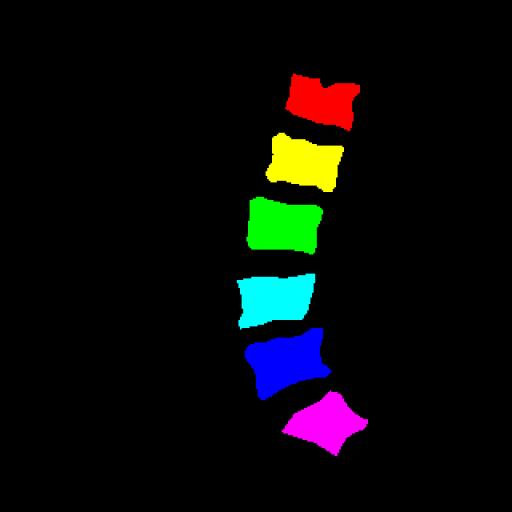L1: (288, 74, 360, 130)
L2: (266, 133, 342, 192)
L3: (247, 197, 323, 254)
L4: (238, 274, 315, 328)
L5: (245, 328, 331, 400)
S1: (282, 391, 368, 456)
